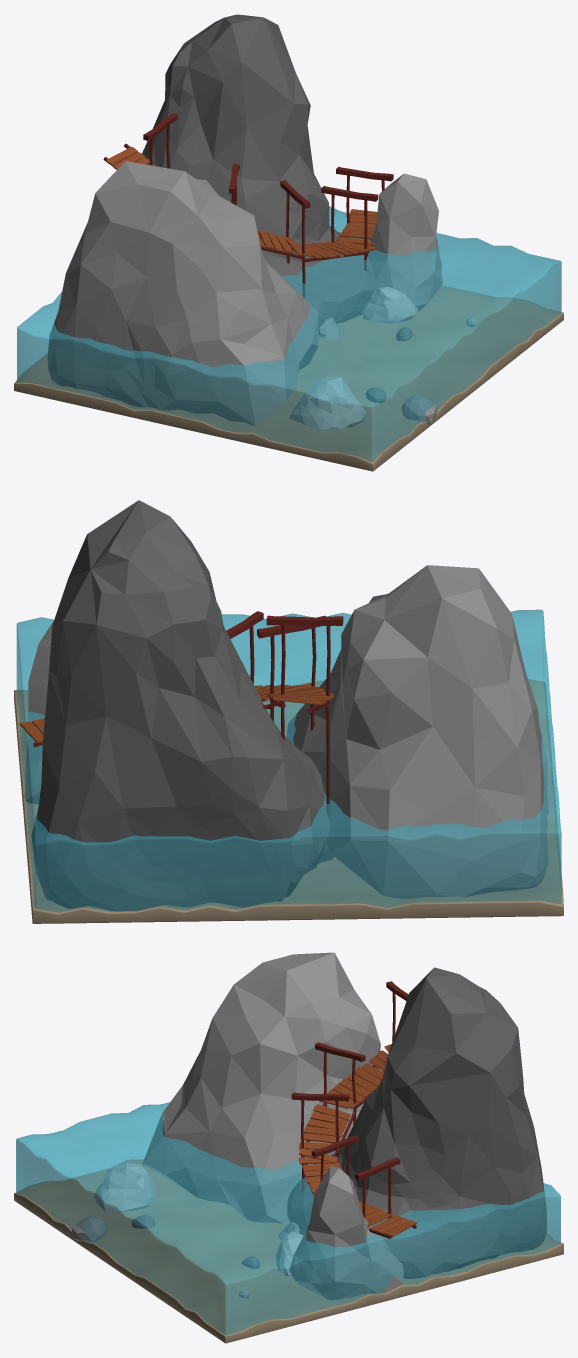
File: LowPolyTokyo.gltf
3 renders of one model, top to bottom at view 1: azimuth 30°, elevation 25°; view 2: azimuth 150°, elevation 25°; view 3: azimuth 270°, elevation 25°, orthographic. The views are drawn at different scales.
Parts seen in each view (by area): view 1: water_7, mountain1.001_4, mountain1_3, sand_6, mountain1.002_5, extra rocks_2, bridgee_1, boards_0; view 2: mountain1_3, mountain1.001_4, water_7, sand_6, bridgee_1, mountain1.002_5, boards_0; view 3: water_7, mountain1_3, mountain1.001_4, sand_6, mountain1.002_5, boards_0, extra rocks_2, bridgee_1.
Part boxes in pixels (x1,y1,x2,y2): water_7: [16, 206, 561, 462]; mountain1.001_4: [47, 161, 318, 425]; mountain1_3: [142, 14, 377, 334]; sand_6: [14, 285, 563, 471]; mountain1.002_5: [367, 173, 442, 311]; extra rocks_2: [289, 287, 477, 430]; bridgee_1: [103, 113, 393, 297]; boards_0: [106, 146, 377, 258]; mountain1_3: [31, 500, 333, 911]; mountain1.001_4: [286, 565, 548, 899]; water_7: [16, 609, 561, 912]; sand_6: [14, 679, 563, 923]; bridgee_1: [32, 611, 343, 818]; mountain1.002_5: [25, 620, 53, 804]; boards_0: [19, 683, 334, 743]; water_7: [16, 1102, 560, 1335]; mountain1_3: [287, 967, 547, 1278]; mountain1.001_4: [142, 952, 383, 1223]; sand_6: [14, 1159, 563, 1343]; mountain1.002_5: [289, 1165, 403, 1300]; boards_0: [299, 1044, 416, 1237]; extra rocks_2: [71, 1162, 303, 1298]; bridgee_1: [291, 981, 416, 1238].
Size of the model in its own units: 37.82 by 22.13 by 37.82.
7 materials, 2 textured.
